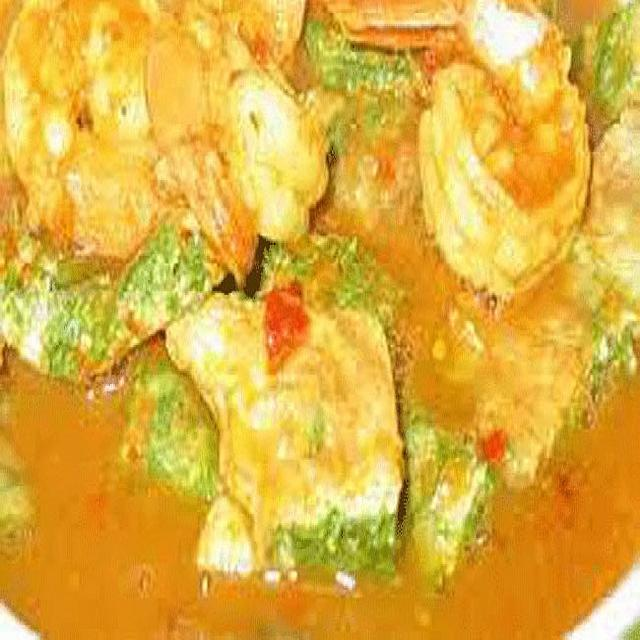汤锅炖物: (6, 13, 636, 612)
